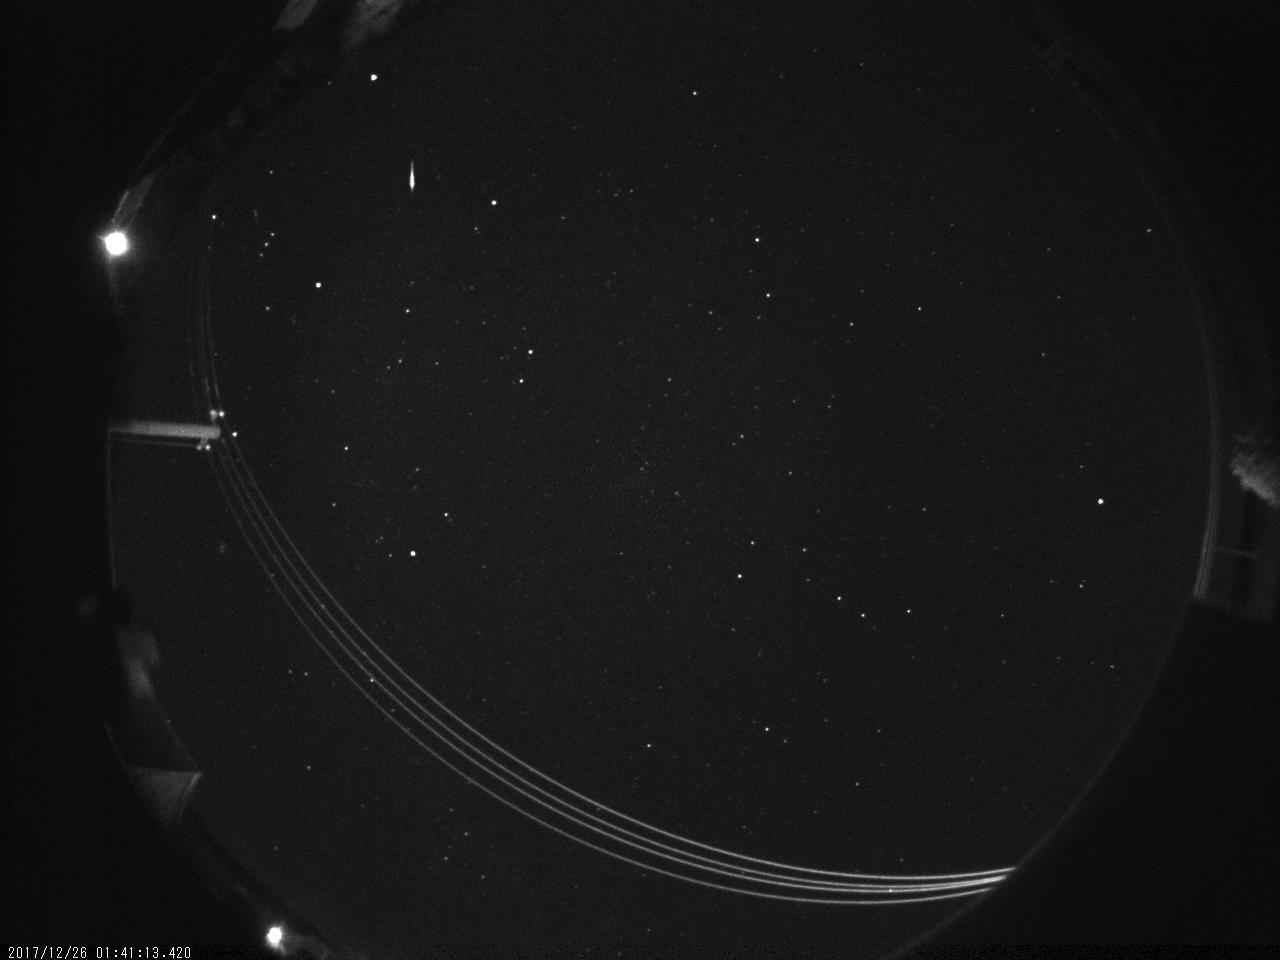Meteor: (406, 156, 418, 192)
